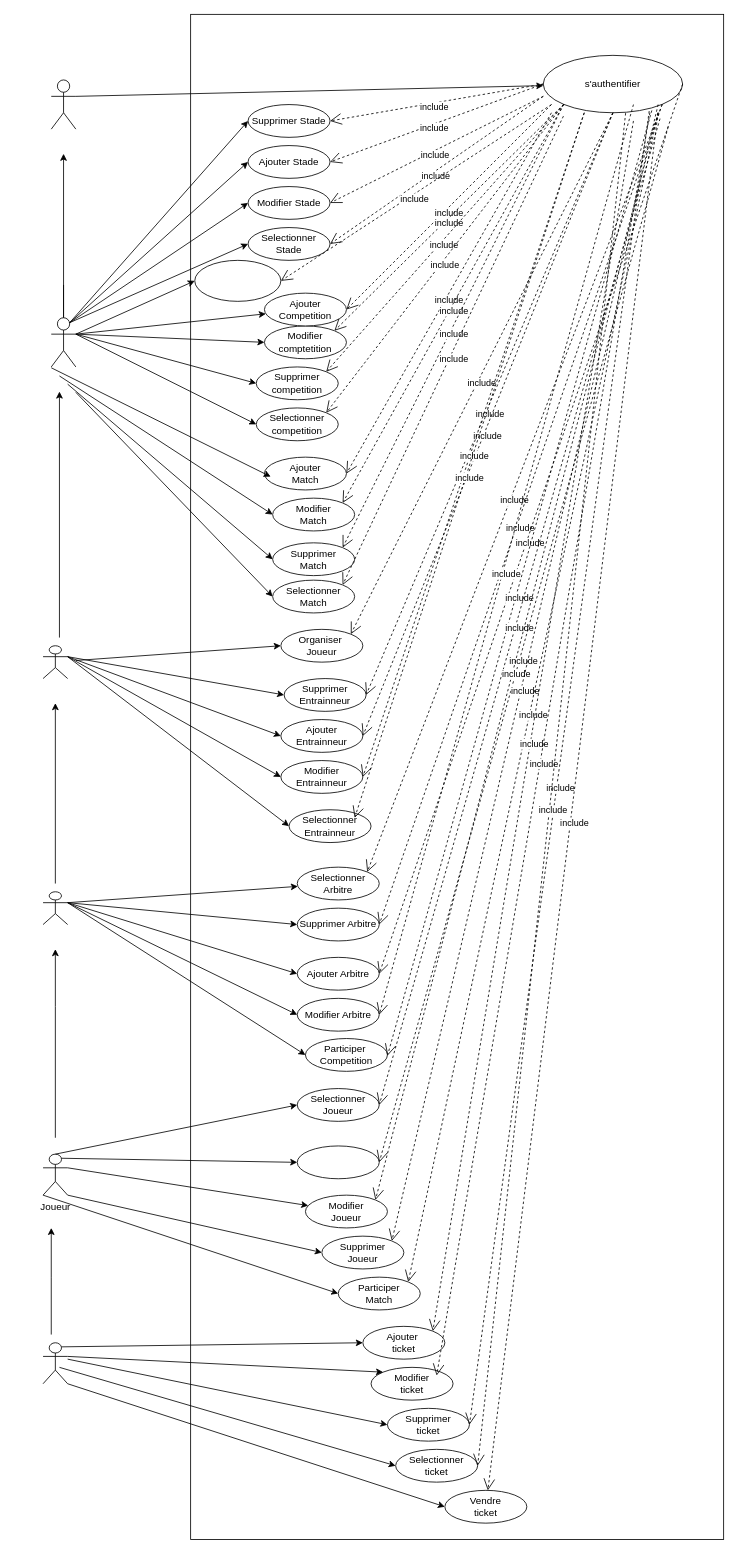
Some shapes in this 738 by 1554 pixel diagram are drawn without their labels. The shapes that lost their labels are listed below. From the top down, each one's box as (x1, y1, x2, y2) in pixels, then its label:
(50, 79, 76, 129): Personne
(194, 260, 281, 301): Reserver Stade
(50, 317, 76, 367): Organisateur
(42, 645, 68, 679): Entrainneur
(42, 891, 68, 925): Arbitre
(296, 1145, 379, 1179): Ajouter Joueur
(42, 1342, 68, 1384): Responsable ticket
